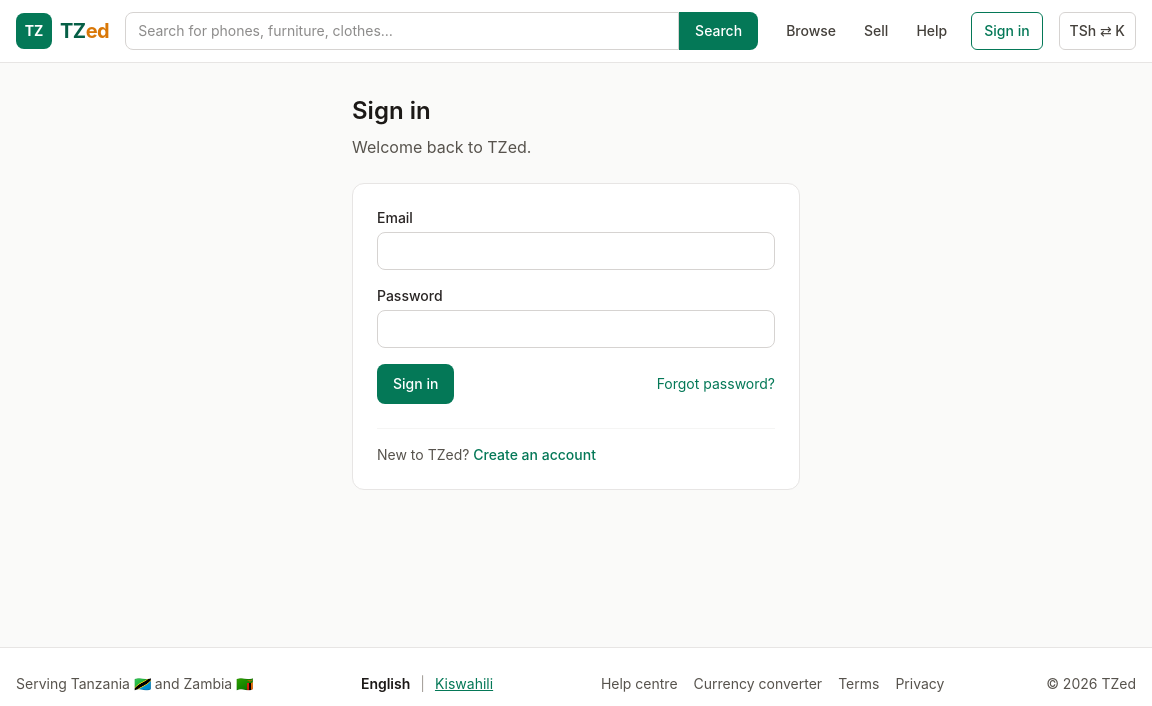
Test case: Sign in › retries once with a fresh token when the session expired
Type "natasha@example.com" into the field labelled "Email".
click(576, 251); type("natasha@example.com")  # box [377, 232, 775, 270]
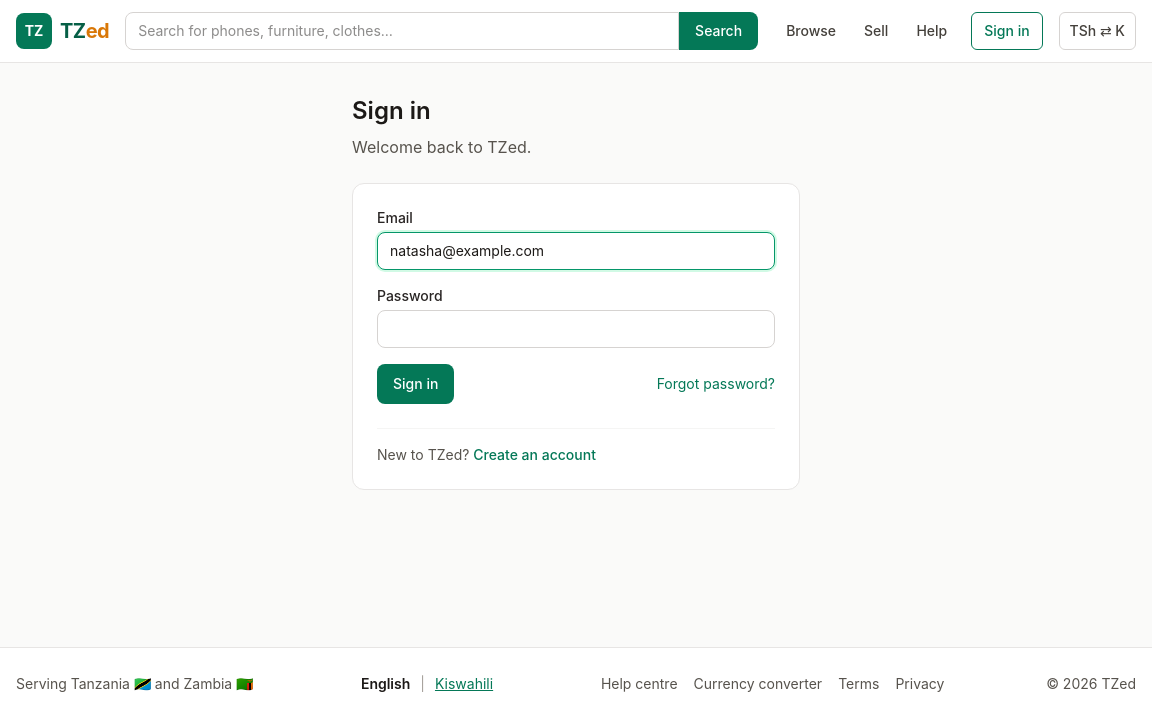
Type "pw" into the password field labelled "Password".
click(576, 329); type("pw")  # box [377, 310, 775, 348]
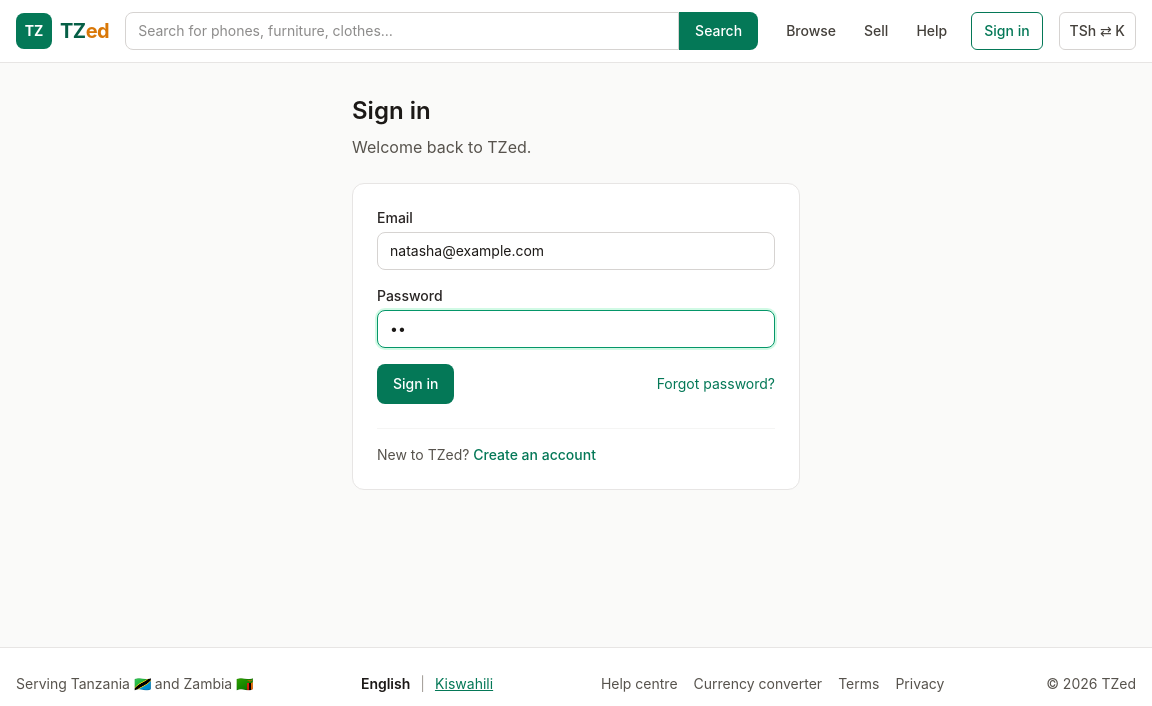
Click the button "Sign in".
click(416, 384)  # box [377, 364, 454, 404]
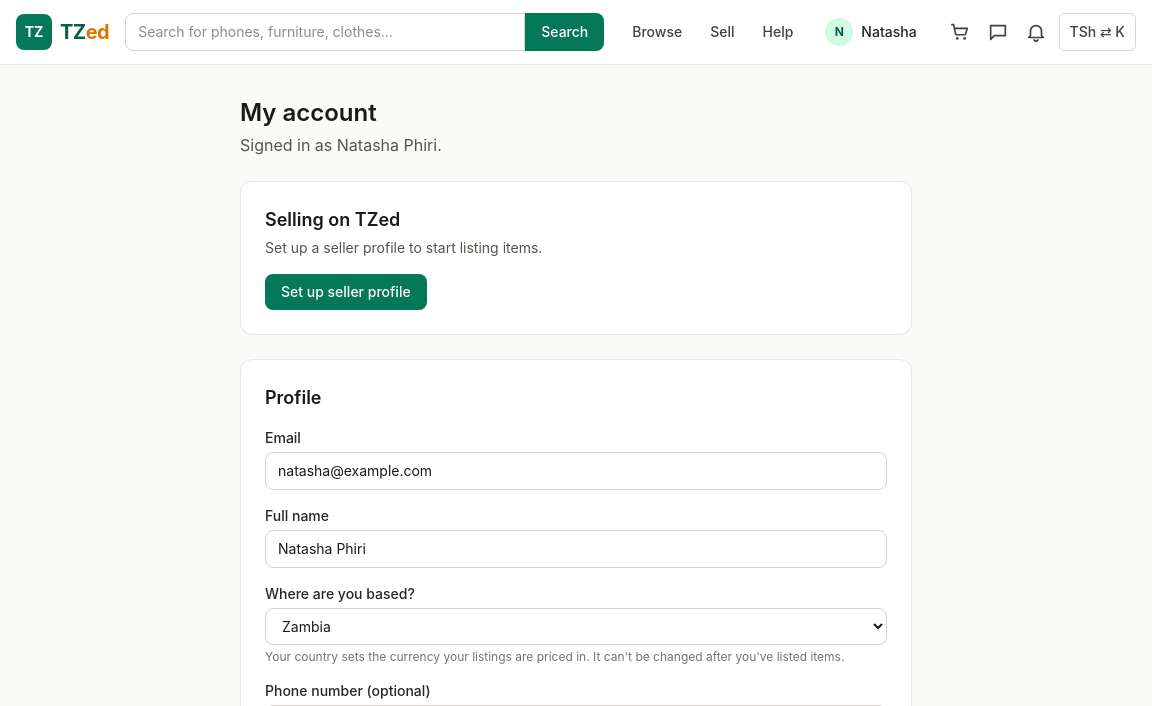
Expected: the heading "My account" is shown, [240, 98, 377, 127]
